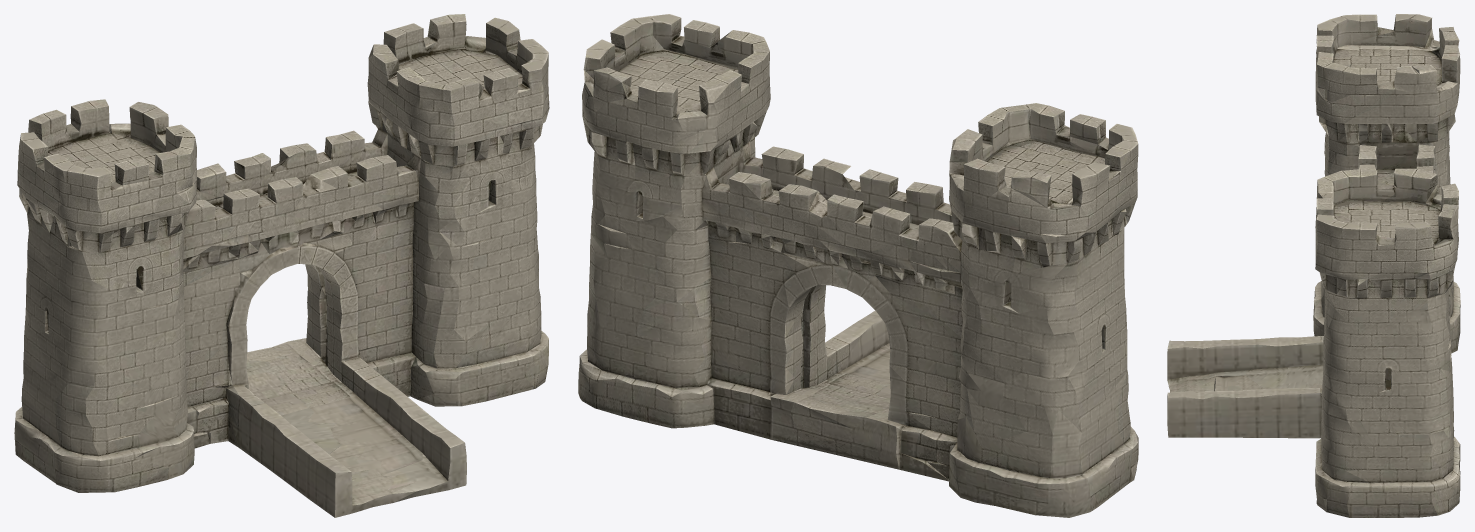
Rendered from inner_gate.glb.
3 renders of one model, left to right at view 1: azimuth 30°, elevation 25°; view 2: azimuth 150°, elevation 25°; view 3: azimuth 270°, elevation 25°, orthographic. The views are drawn at different scales.
Parts seen in each view (by area): view 1: output_unwrapped; view 2: output_unwrapped; view 3: output_unwrapped.
Boxes of the visible parts, x1,y1,x2,y2 form: output_unwrapped: [14, 14, 549, 517]; output_unwrapped: [578, 14, 1138, 517]; output_unwrapped: [1167, 14, 1460, 517].
Bounding box in the file's own units: 1.9 × 1.2 × 1.09.
Materials: 1 (1 with a texture image).
